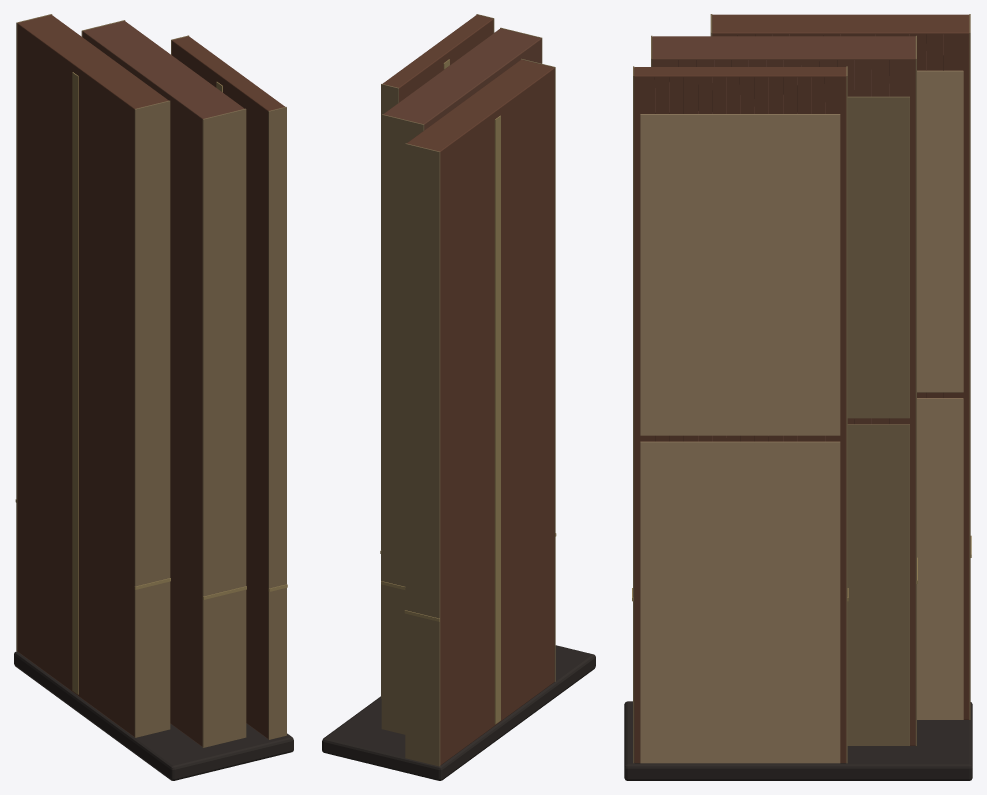
File: screen.glb
3 views of the same model, side by side, from view 1: azimuth 30°, elevation 25°; view 2: azimuth 150°, elevation 25°; view 3: azimuth 270°, elevation 25° (orthographic). The views are drawn at different scales.
Parts seen in each view (by area): view 1: 실내 조명 베이크용 screen; view 2: 실내 조명 베이크용 screen; view 3: 실내 조명 베이크용 screen.
Boxes of the visible parts, box(x1,y1,x2,y2) form: 실내 조명 베이크용 screen: box(14, 14, 293, 780); 실내 조명 베이크용 screen: box(322, 14, 595, 780); 실내 조명 베이크용 screen: box(624, 14, 972, 780).
Size of the model in its own units: 0.7539 by 3.77 by 1.69.
